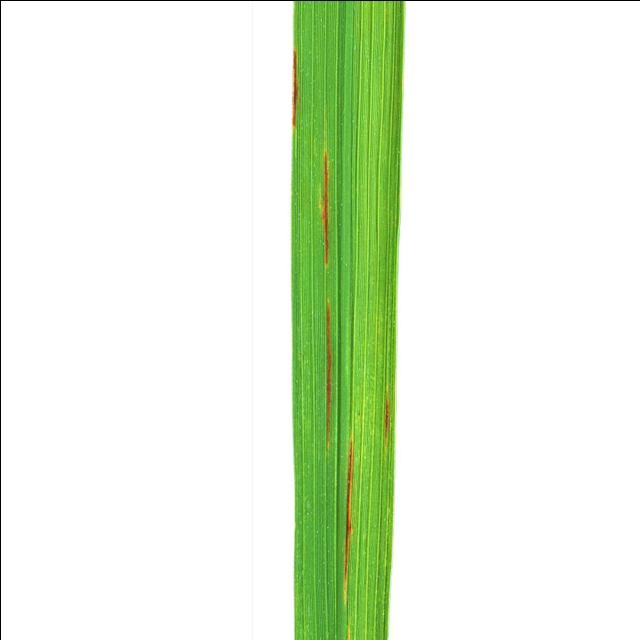Narrow brown: (276, 0, 514, 640)
